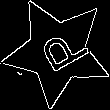P_SW: (26, 23, 88, 80)
